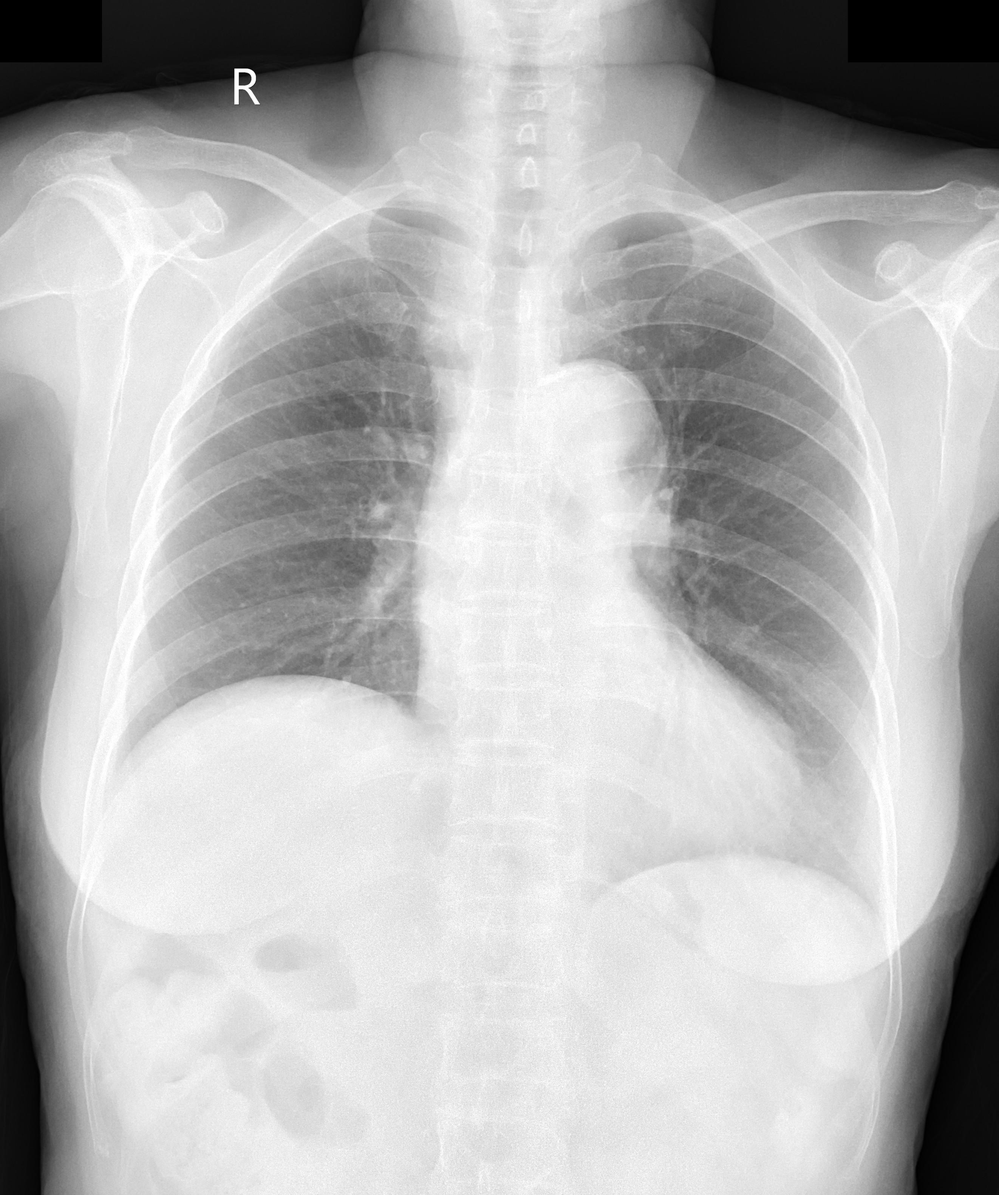Aortic enlargement: (517, 356, 668, 520)
Cardiomegaly: (408, 656, 806, 877)
